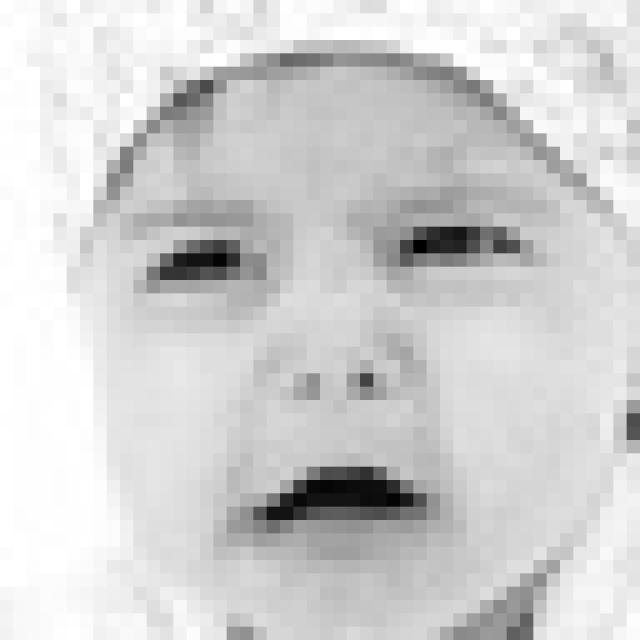sad: (107, 179, 552, 563)
